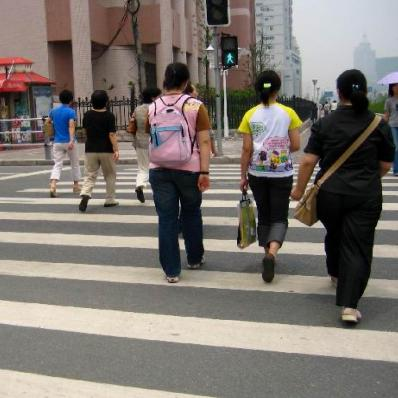ped: (293, 69, 398, 322), (148, 63, 212, 282), (239, 71, 303, 283), (82, 90, 121, 211), (48, 90, 84, 198)
